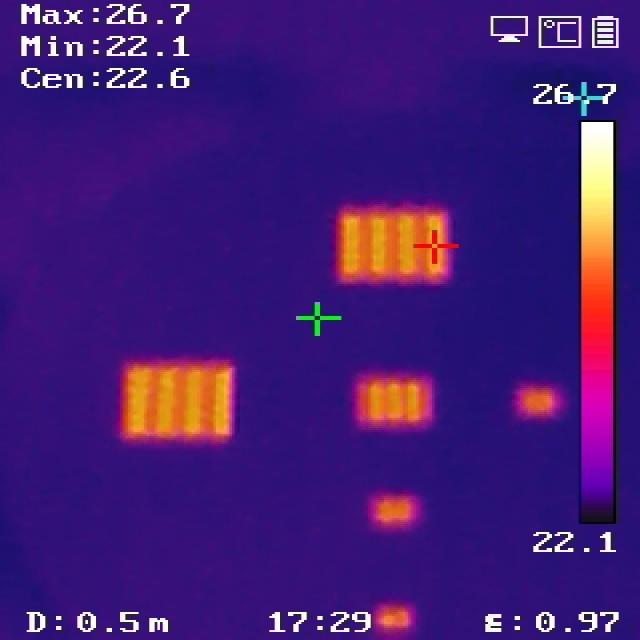Distinguishable 4-bar target: (125, 364, 234, 438), (343, 208, 449, 280), (360, 377, 429, 427)
Indistinguishable 4-bar target: (375, 489, 416, 522), (521, 388, 560, 415), (383, 605, 409, 629)
